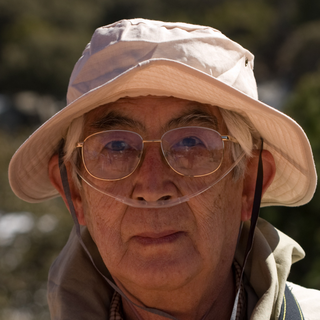eye: (169, 131, 207, 159), (98, 134, 136, 161)
